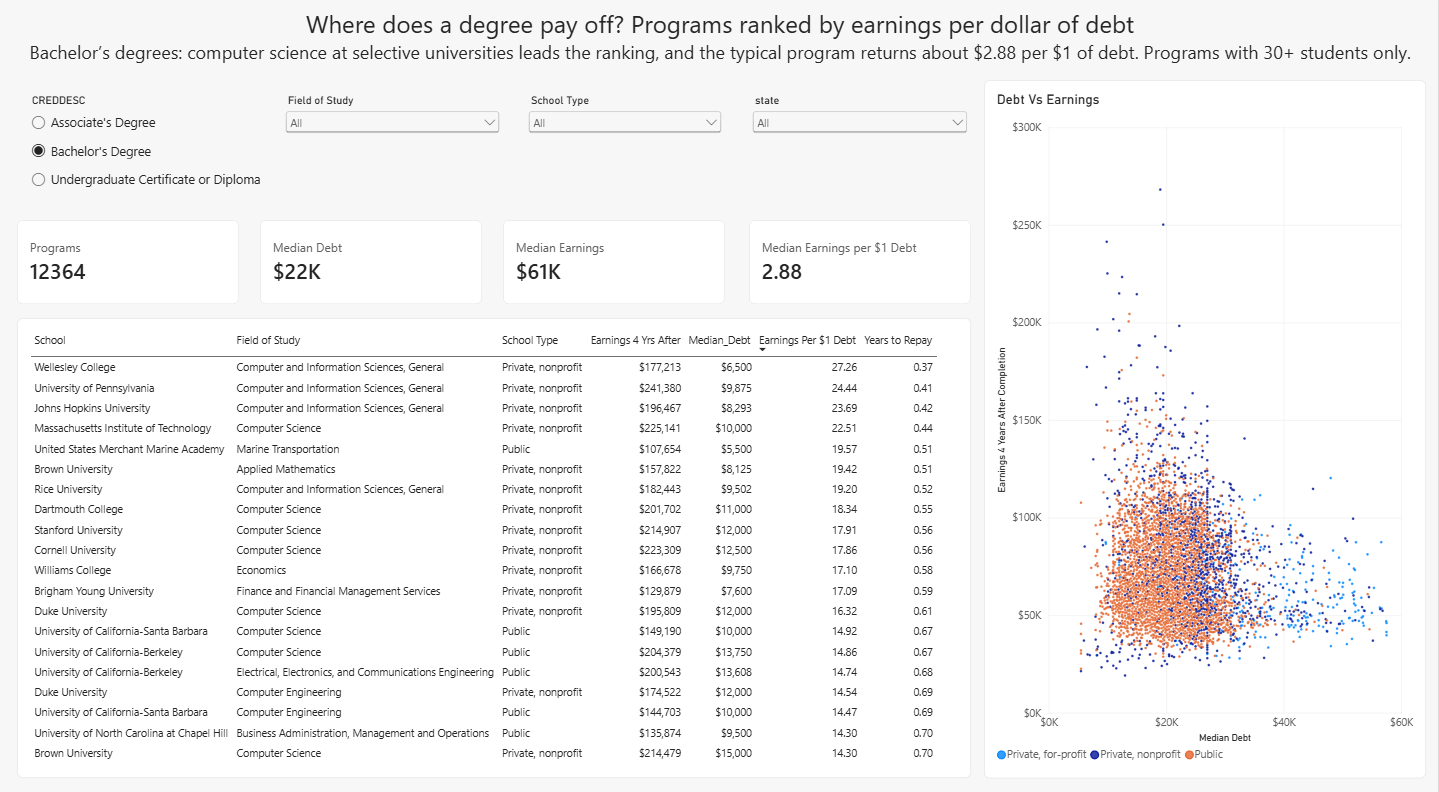

What the dashboard file says about the page in this screenshot:
{"tool":"powerbi","page":{"name":"Degree Value","canvas":[1920,1080],"ordinal":0},"visuals":[{"type":"cardVisual","fields":{"Data":["vw_high_risk.Programs"]},"box":[29.4,300.6,295.3,112.2],"z":0},{"type":"cardVisual","fields":{"Data":["vw_high_risk.Median Debt"]},"box":[352.7,300.6,295.3,112.2],"z":1000},{"type":"cardVisual","fields":{"Data":["vw_high_risk.Median Earnings"]},"box":[676.1,300.6,295.3,112.2],"z":2000},{"type":"cardVisual","fields":{"Data":["vw_high_risk.Median Earnings per $1 Debt"]},"box":[1003.4,300.6,295.3,112.2],"z":3000},{"type":"slicer","fields":{"Values":["vw_high_risk.CREDDESC"]},"box":[33,159,340.5,141],"z":4000},{"type":"slicer","fields":{"Values":["vw_high_risk.CIPDESC"]},"box":[373.7,159,293.9,141.6],"z":5000},{"type":"slicer","fields":{"Values":["vw_high_risk.state"]},"box":[995,159,295.3,148.3],"z":6000},{"type":"slicer","fields":{"Values":["vw_high_risk.control"]},"box":[697,159,265.9,153.7],"z":7000},{"type":"tableEx","fields":{"Values":["vw_high_risk.INSTNM","vw_high_risk.CIPDESC","vw_high_risk.control","vw_high_risk.earnings_4yr","vw_high_risk.median_debt","vw_high_risk.earnings_to_debt","vw_high_risk.years_to_repay"]},"box":[29.8,431.9,1270.2,610.6],"z":8000},{"type":"scatterChart","title":"Debt Vs Earnings","fields":{"Category":["vw_high_risk.Program"],"Series":["vw_high_risk.control"],"X":["Avg(vw_high_risk.median_debt)"],"Y":["Avg(vw_high_risk.earnings_4yr)"]},"box":[1316.1,114.9,587.9,928.6],"z":9000},{"type":"textbox","box":[41.4,17.4,1846.5,78.8],"z":10000},{"type":"textbox","box":[36.6,115.5,1253.5,49.3],"z":11000},{"type":"textbox","box":[29.6,1057.7,521.1,22.5],"z":13000}]}

Visuals, with their boxes in screenshot pixels (x1, y1, x2, y2), scaled from the page's 1920x1080 canvas onto the 1439x792 screenshot:
cardVisual - vw_high_risk.Programs: {"x1": 22, "y1": 220, "x2": 243, "y2": 303}
cardVisual - vw_high_risk.Median Debt: {"x1": 264, "y1": 220, "x2": 486, "y2": 303}
cardVisual - vw_high_risk.Median Earnings: {"x1": 507, "y1": 220, "x2": 728, "y2": 303}
cardVisual - vw_high_risk.Median Earnings per $1 Debt: {"x1": 752, "y1": 220, "x2": 973, "y2": 303}
slicer - vw_high_risk.CREDDESC: {"x1": 25, "y1": 117, "x2": 280, "y2": 220}
slicer - vw_high_risk.CIPDESC: {"x1": 280, "y1": 117, "x2": 500, "y2": 220}
slicer - vw_high_risk.state: {"x1": 746, "y1": 117, "x2": 967, "y2": 225}
slicer - vw_high_risk.control: {"x1": 522, "y1": 117, "x2": 722, "y2": 229}
tableEx - vw_high_risk.INSTNM x vw_high_risk.CIPDESC: {"x1": 22, "y1": 317, "x2": 974, "y2": 764}
"Debt Vs Earnings" scatterChart: {"x1": 986, "y1": 84, "x2": 1427, "y2": 765}
textbox: {"x1": 31, "y1": 13, "x2": 1415, "y2": 71}
textbox: {"x1": 27, "y1": 85, "x2": 967, "y2": 121}
textbox: {"x1": 22, "y1": 776, "x2": 413, "y2": 791}
